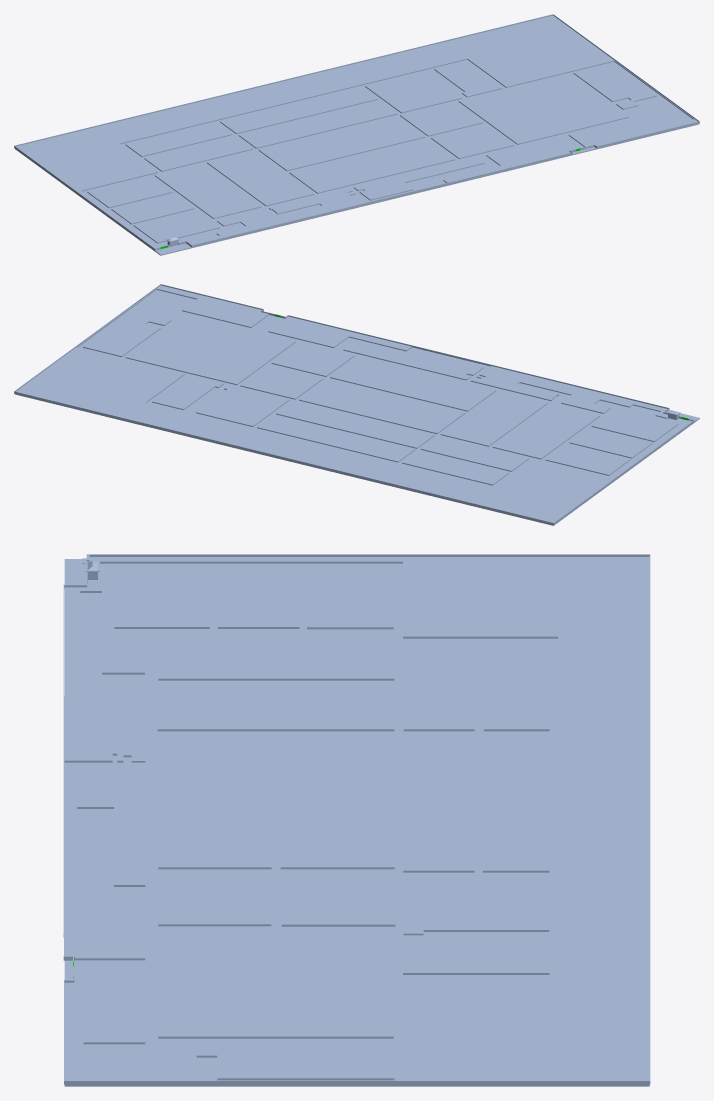
File: VIL.glb
The picture shows the model from 3 angles, top to bottom: view 1: azimuth 30°, elevation 25°; view 2: azimuth 150°, elevation 25°; view 3: azimuth 270°, elevation 25°; orthographic projection. The views are drawn at different scales.
Visible parts, largest first — view 1: landscaping, platform, wall; view 2: landscaping, platform, wall; view 3: landscaping, platform, wall.
Boxes of the visible parts, x1=… form: landscaping: x1=16, y1=15, x2=697, y2=248; platform: x1=14, y1=59, x2=699, y2=255; wall: x1=14, y1=14, x2=699, y2=251; landscaping: x1=16, y1=285, x2=692, y2=522; platform: x1=15, y1=290, x2=699, y2=525; wall: x1=14, y1=284, x2=694, y2=524; landscaping: x1=64, y1=557, x2=649, y2=1080; platform: x1=64, y1=559, x2=649, y2=1086; wall: x1=63, y1=554, x2=650, y2=1084.
Size of the model in its own units: 574 by 8.2 by 270.
